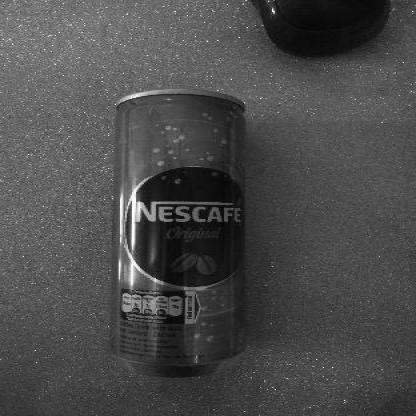alumunium_can: (108, 85, 249, 377)
